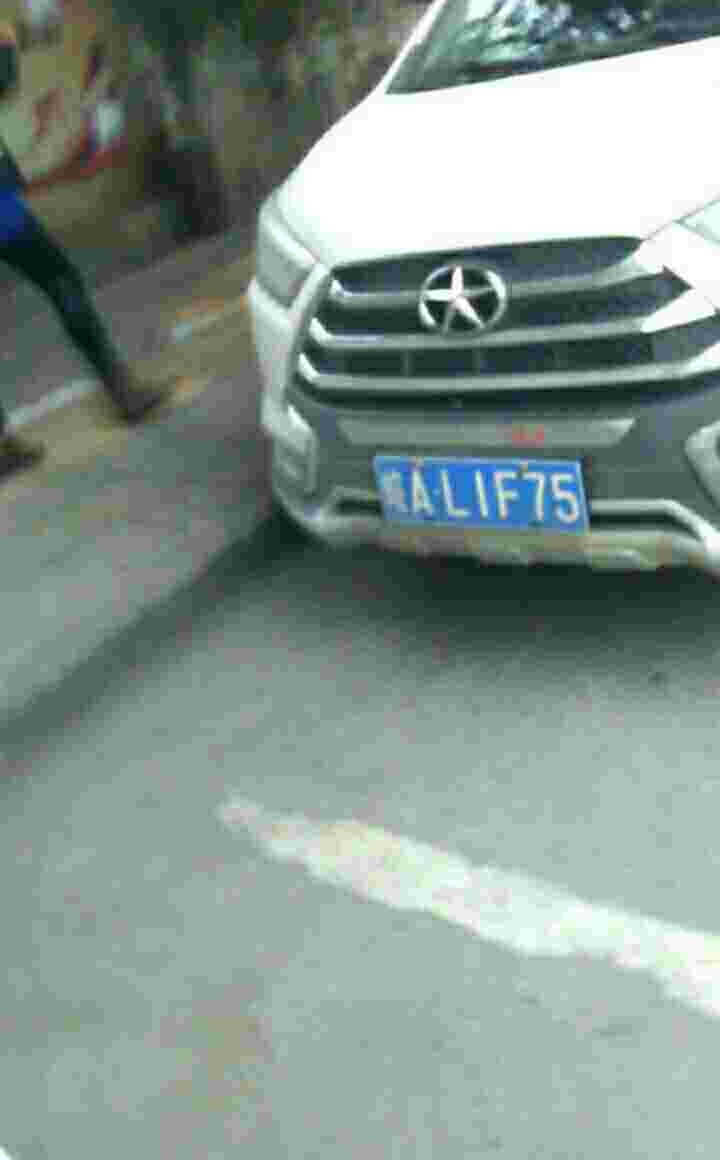license_plate: (379, 457, 591, 530)
